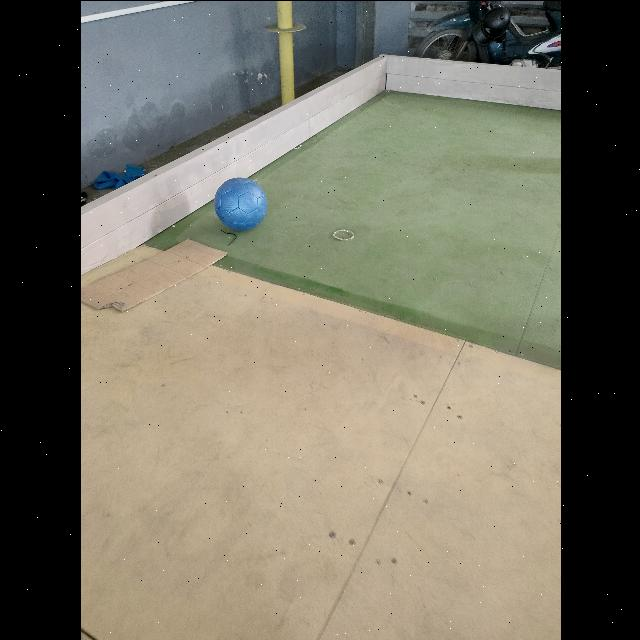B: (214, 177, 266, 230)
